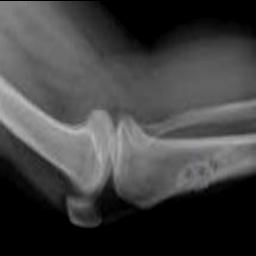cancer: (175, 160, 250, 190)
